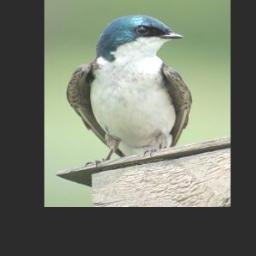Swallow: (66, 13, 194, 168)
